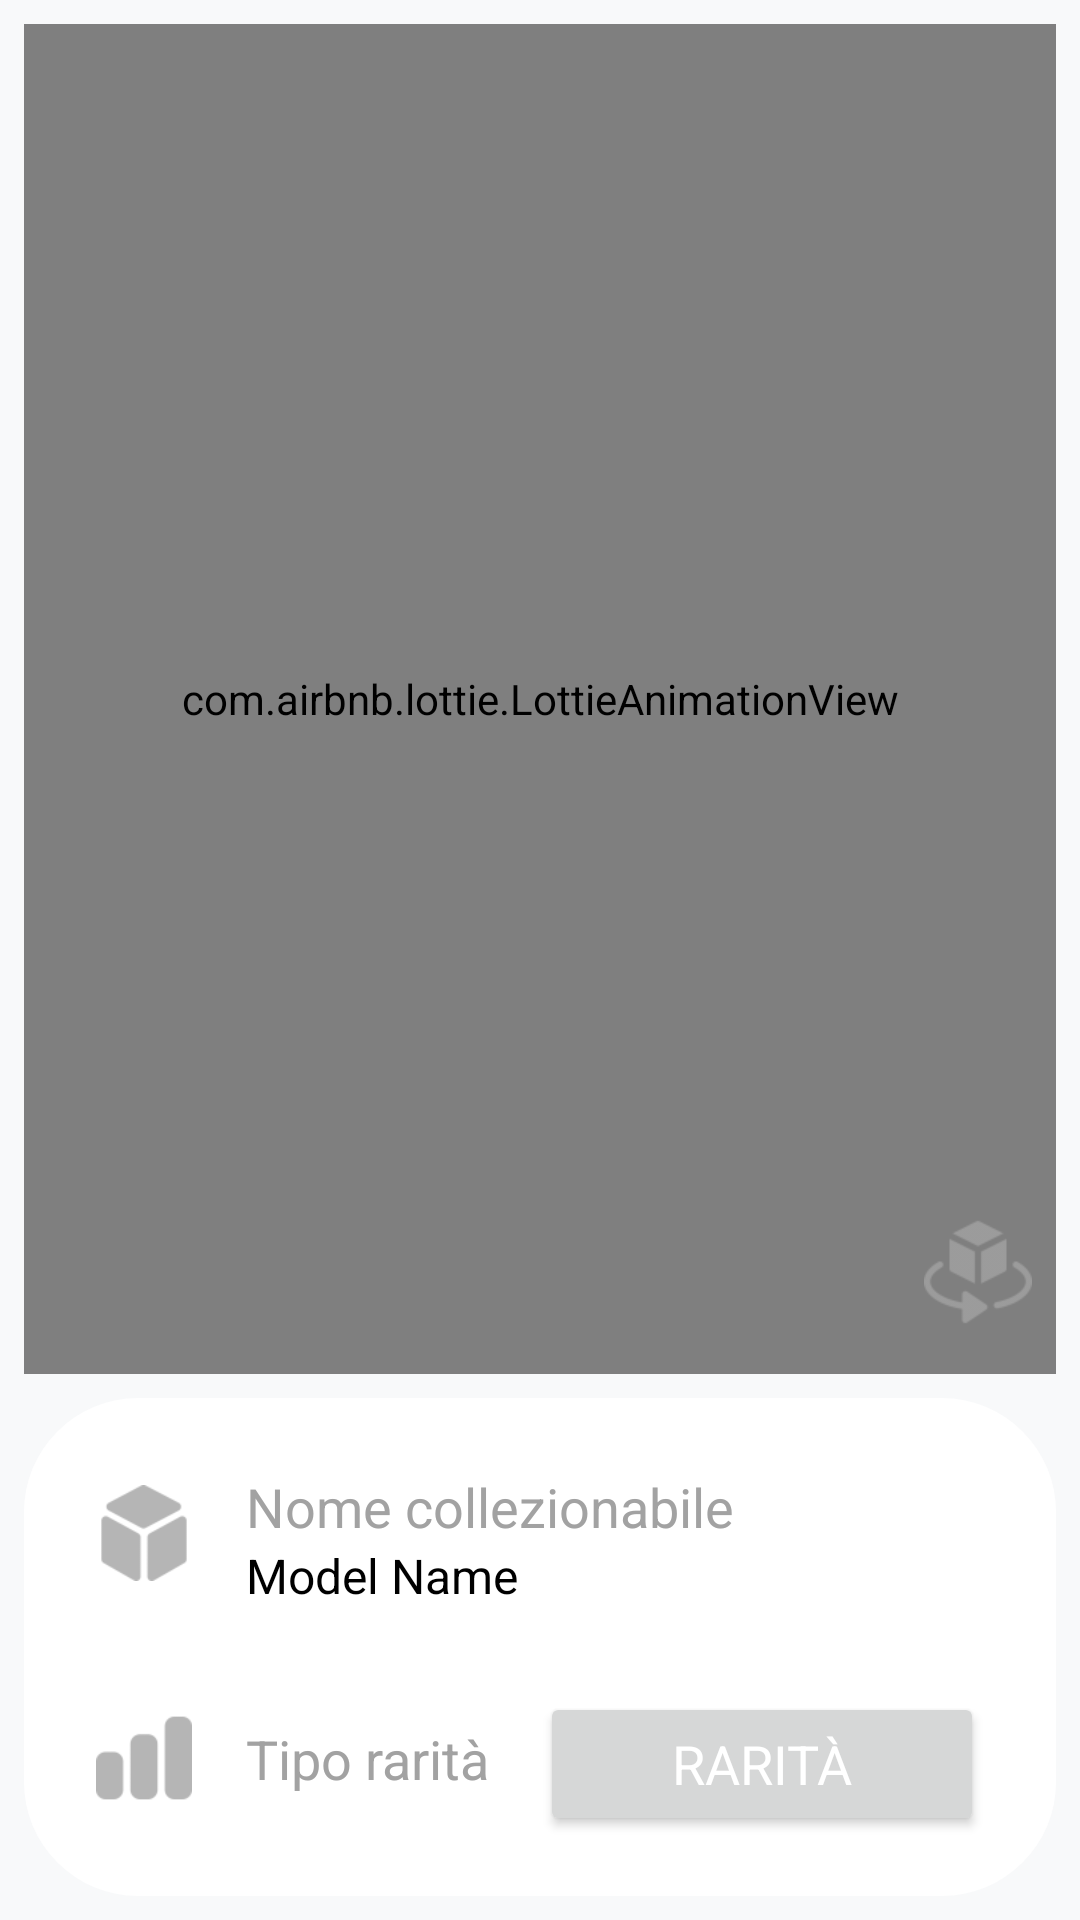

Where icons sit on this 1080 x 1920 app screen, as (x1, y1, x2, y2):
Button Rotate: (924, 1222, 1032, 1322)
collectible rarity: (96, 1716, 192, 1800)
